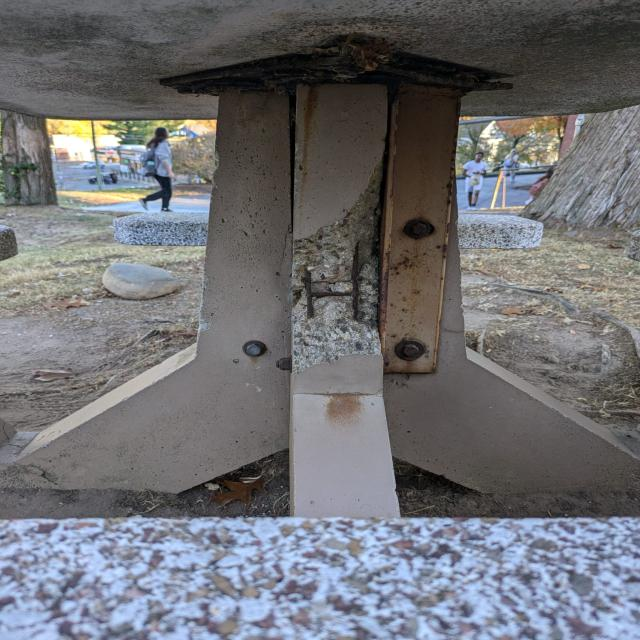Crevice Corrosion: (381, 81, 473, 379), (403, 214, 448, 246), (328, 399, 366, 430), (394, 337, 433, 364)
